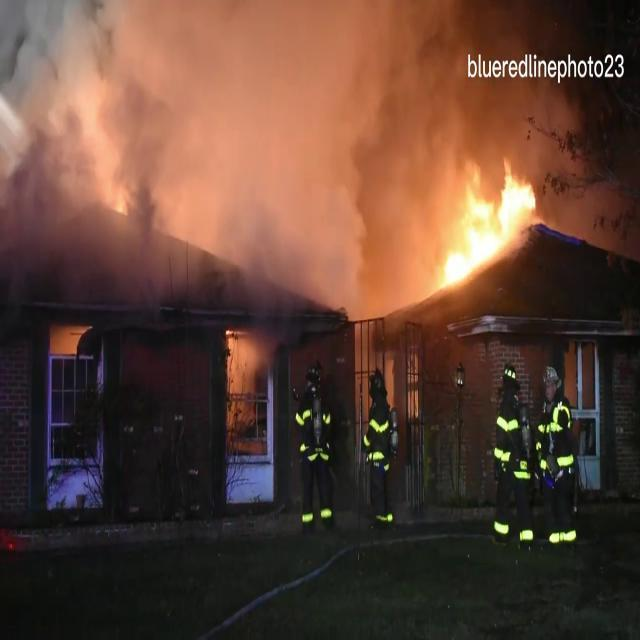Fire: (422, 154, 547, 293)
Smoke: (0, 0, 455, 282)
